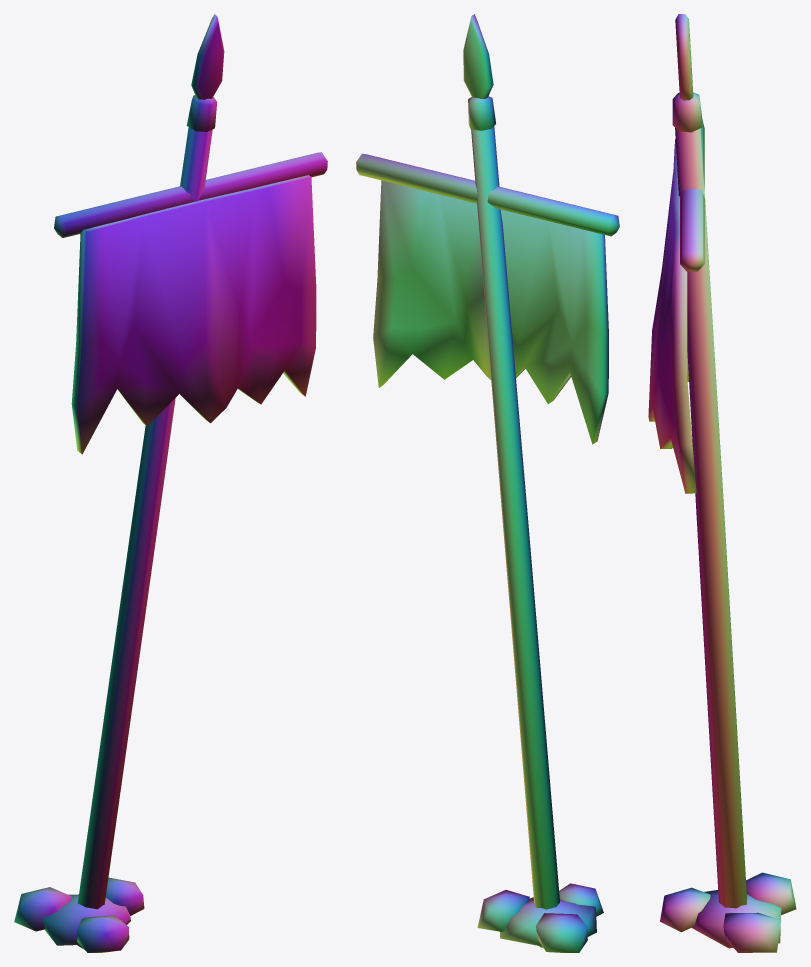
File: SM_Prop_March_RingBanner_B_LOD1.fbx
3 renders of one model, left to right at view 1: azimuth 30°, elevation 25°; view 2: azimuth 150°, elevation 25°; view 3: azimuth 270°, elevation 25°, orthographic. The views are drawn at different scales.
Parts seen in each view (by area): view 1: SM_Prop_March_RingBanner_B_LOD1; view 2: SM_Prop_March_RingBanner_B_LOD1; view 3: SM_Prop_March_RingBanner_B_LOD1.
Boxes of the visible parts, <box> form: SM_Prop_March_RingBanner_B_LOD1: <box>14,14,327,952</box>; SM_Prop_March_RingBanner_B_LOD1: <box>356,14,619,952</box>; SM_Prop_March_RingBanner_B_LOD1: <box>648,14,796,952</box>.
Bounding box in the file's own units: 0.8914 × 2.88 × 0.391.
